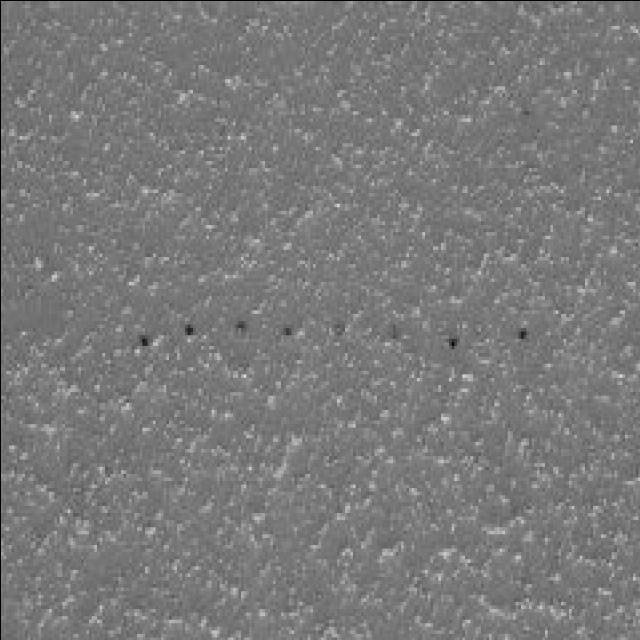pin holes: (495, 316, 542, 356), (220, 311, 261, 350), (431, 326, 465, 366), (380, 318, 413, 359), (326, 302, 352, 352), (271, 316, 304, 352), (125, 327, 158, 362), (180, 318, 202, 348)
